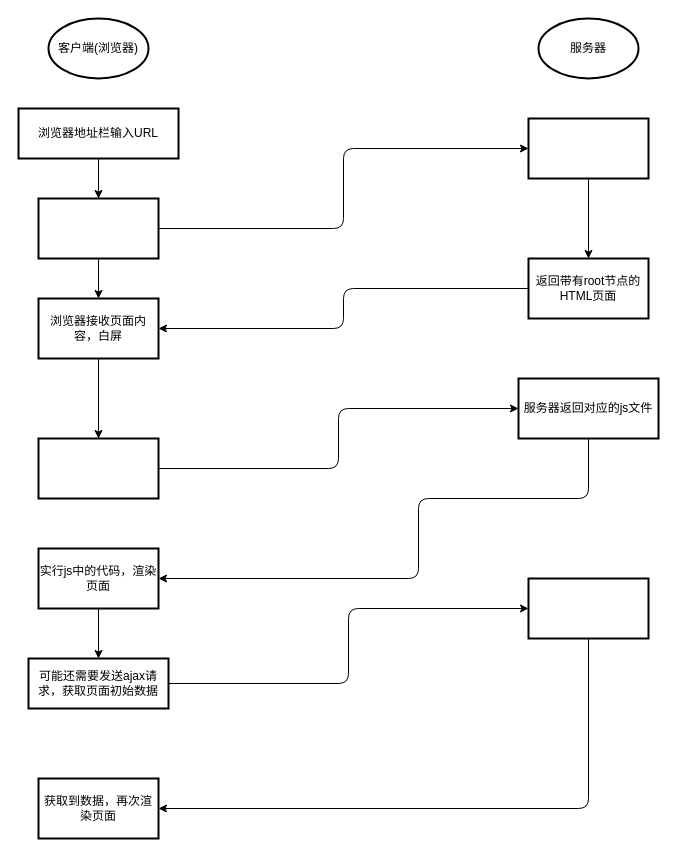
This 676x856 diagram has some shape labels left out. Here are the shapes that lost their labels. From the top down, the box of each, then its label:
(527, 117, 649, 179): 服务器接收到请求
(37, 197, 159, 259): 浏览器向服务器请求页面资源
(37, 437, 159, 499): 读取script标签，再次请求服务器
(527, 577, 649, 639): 接收请求，返回数据
